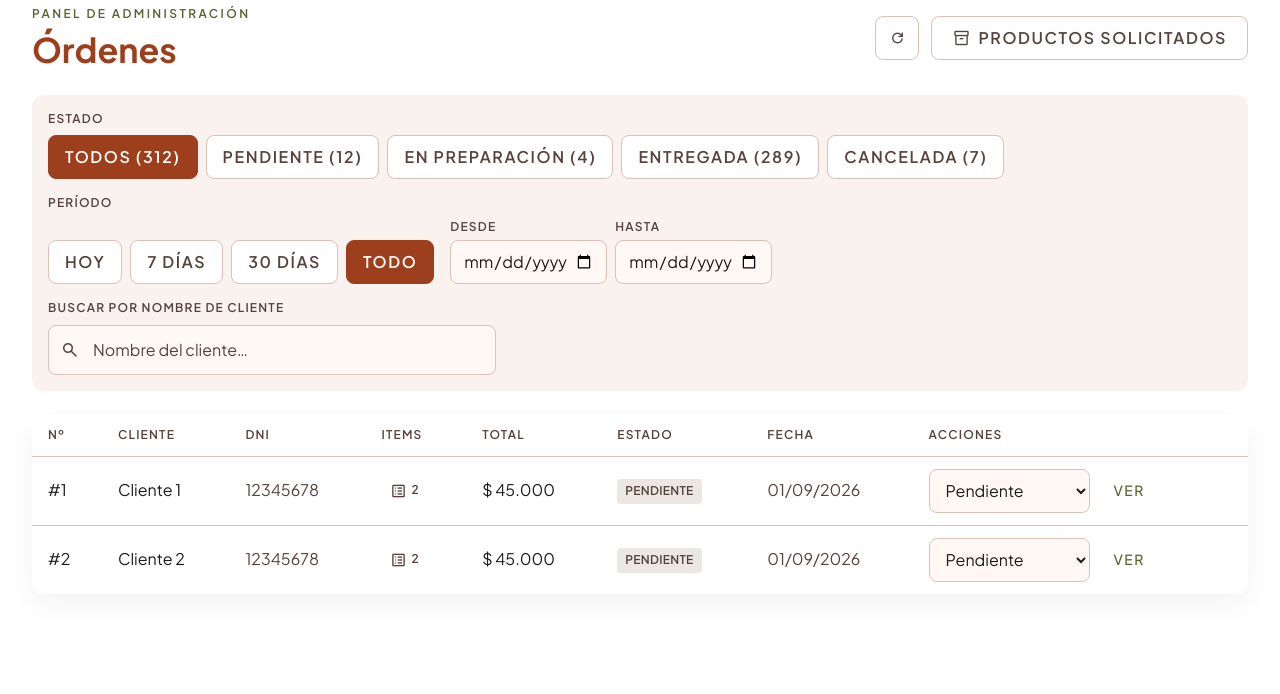
Test: AdminOrdenes — el resumen de productos › solo hay UN resumen abierto a la vez
Expected: the heading "Órdenes" is shown, 32,28 -> 177,71
What coordinates should you click on to do the following:
click the button named "productos de la orden #1"
I would click on:
 (405, 490)
Its box is 382,468 -> 428,512.
(page scrolled)
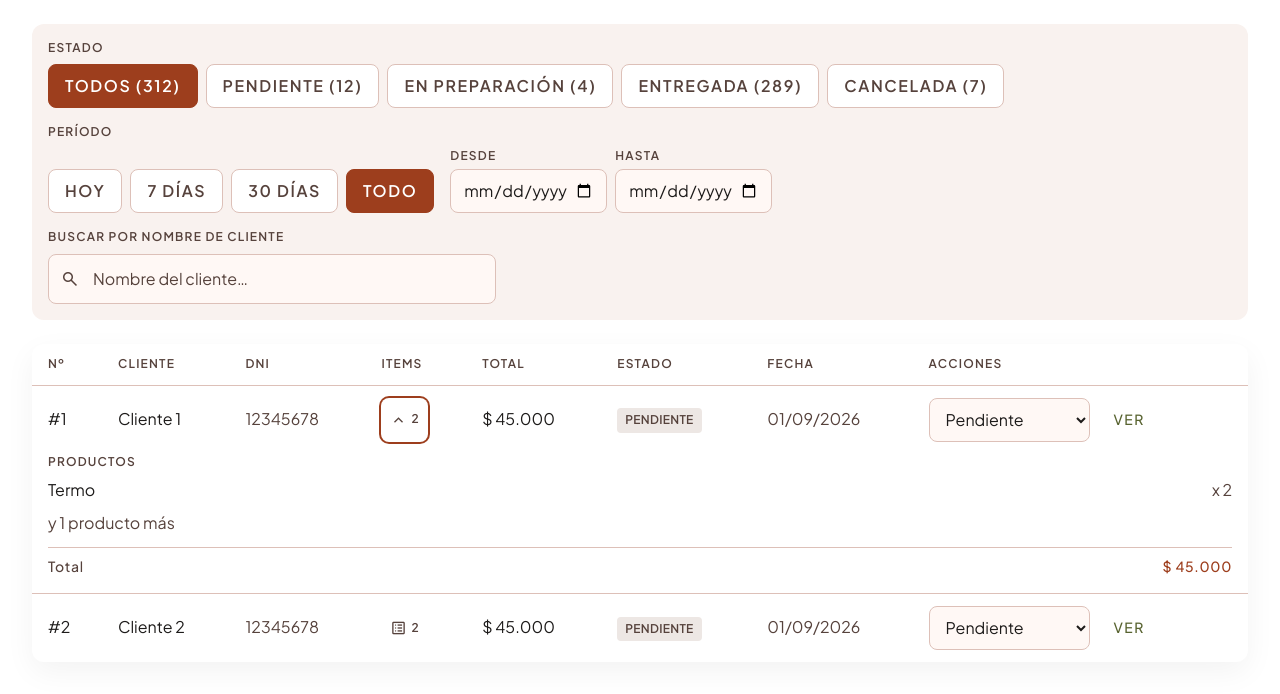
What coordinates should you click on to do the following:
click the button named "productos de la orden #2"
I would click on:
 (405, 628)
Its box is 382,606 -> 428,650.
(page scrolled)
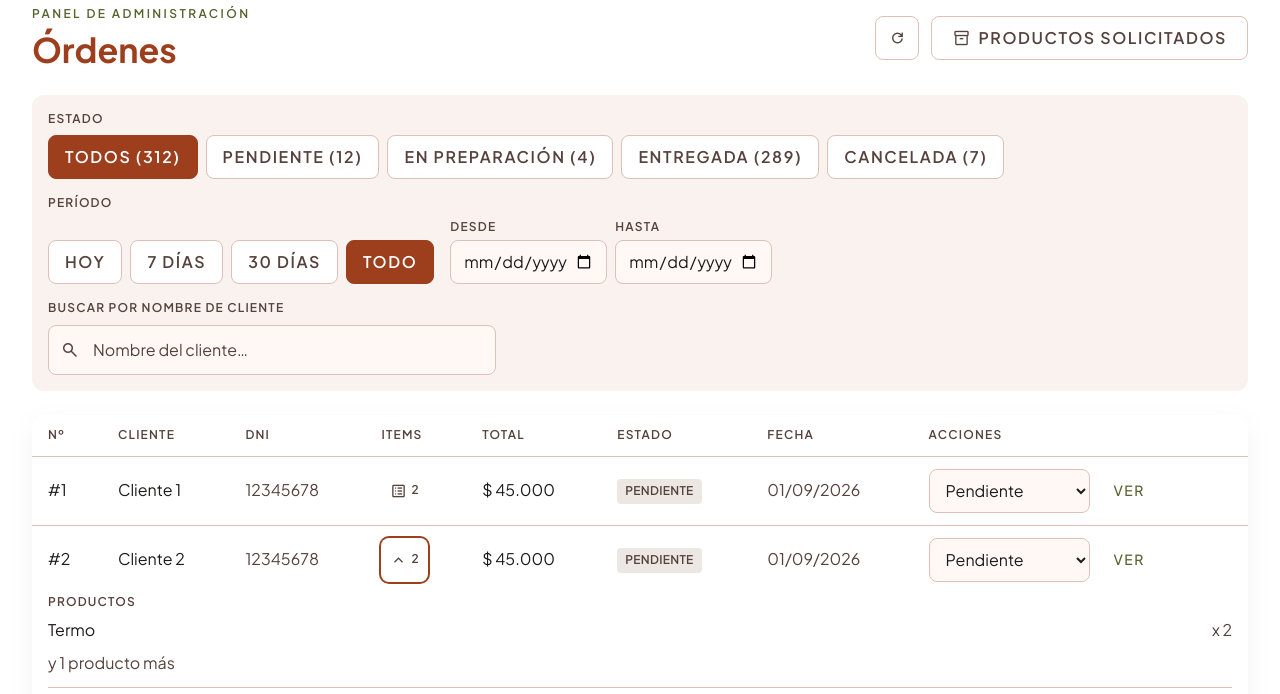
Result: the button named "productos de la orden #1" is collapsed at 382,468 -> 428,512
Result: the button named "productos de la orden #2" is expanded at 382,538 -> 428,582
